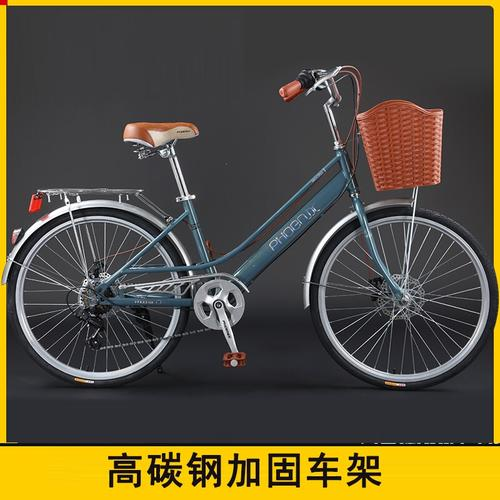单车: (8, 58, 500, 400)
